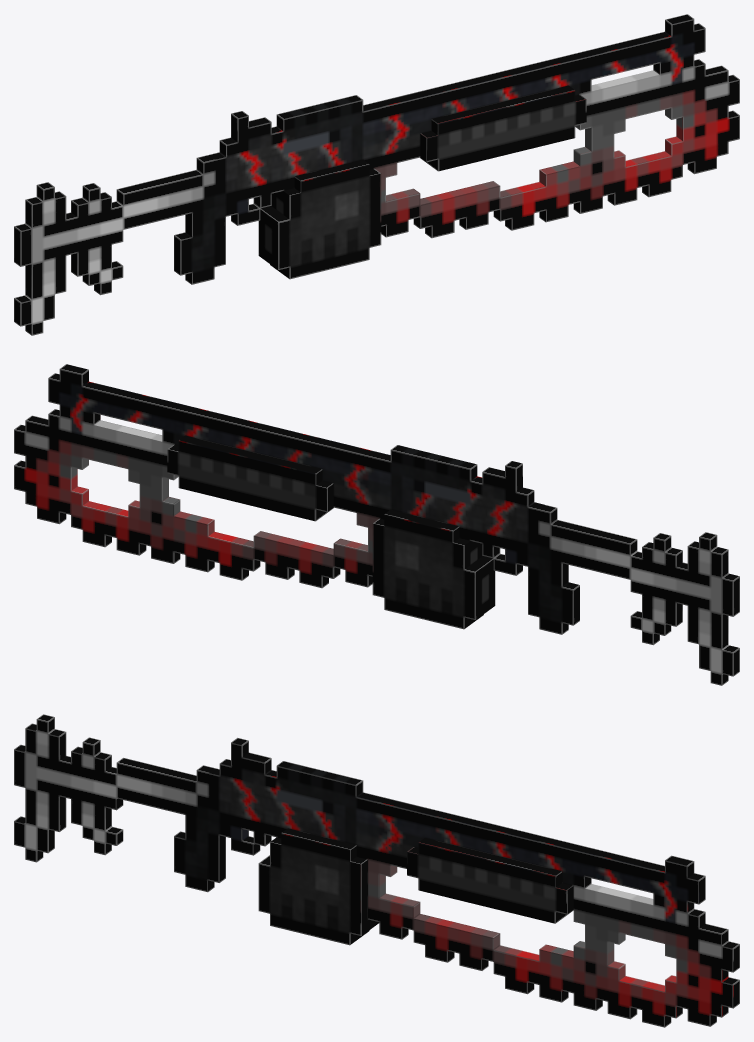
File: M3_BONES.glb
3 views of the same model, one above another, from view 1: azimuth 30°, elevation 25°; view 2: azimuth 150°, elevation 25°; view 3: azimuth 330°, elevation 25° (orthographic).
Parts seen in each view (by area): view 1: M3_BONES; view 2: M3_BONES; view 3: M3_BONES.
Part boxes in pixels (x1,y1,x2,y2): M3_BONES: (14, 14, 739, 335); M3_BONES: (14, 364, 739, 685); M3_BONES: (14, 714, 739, 1027).
Bounding box in the file's own units: 1.76 × 0.4185 × 0.0838.
1 material, 1 textured.
